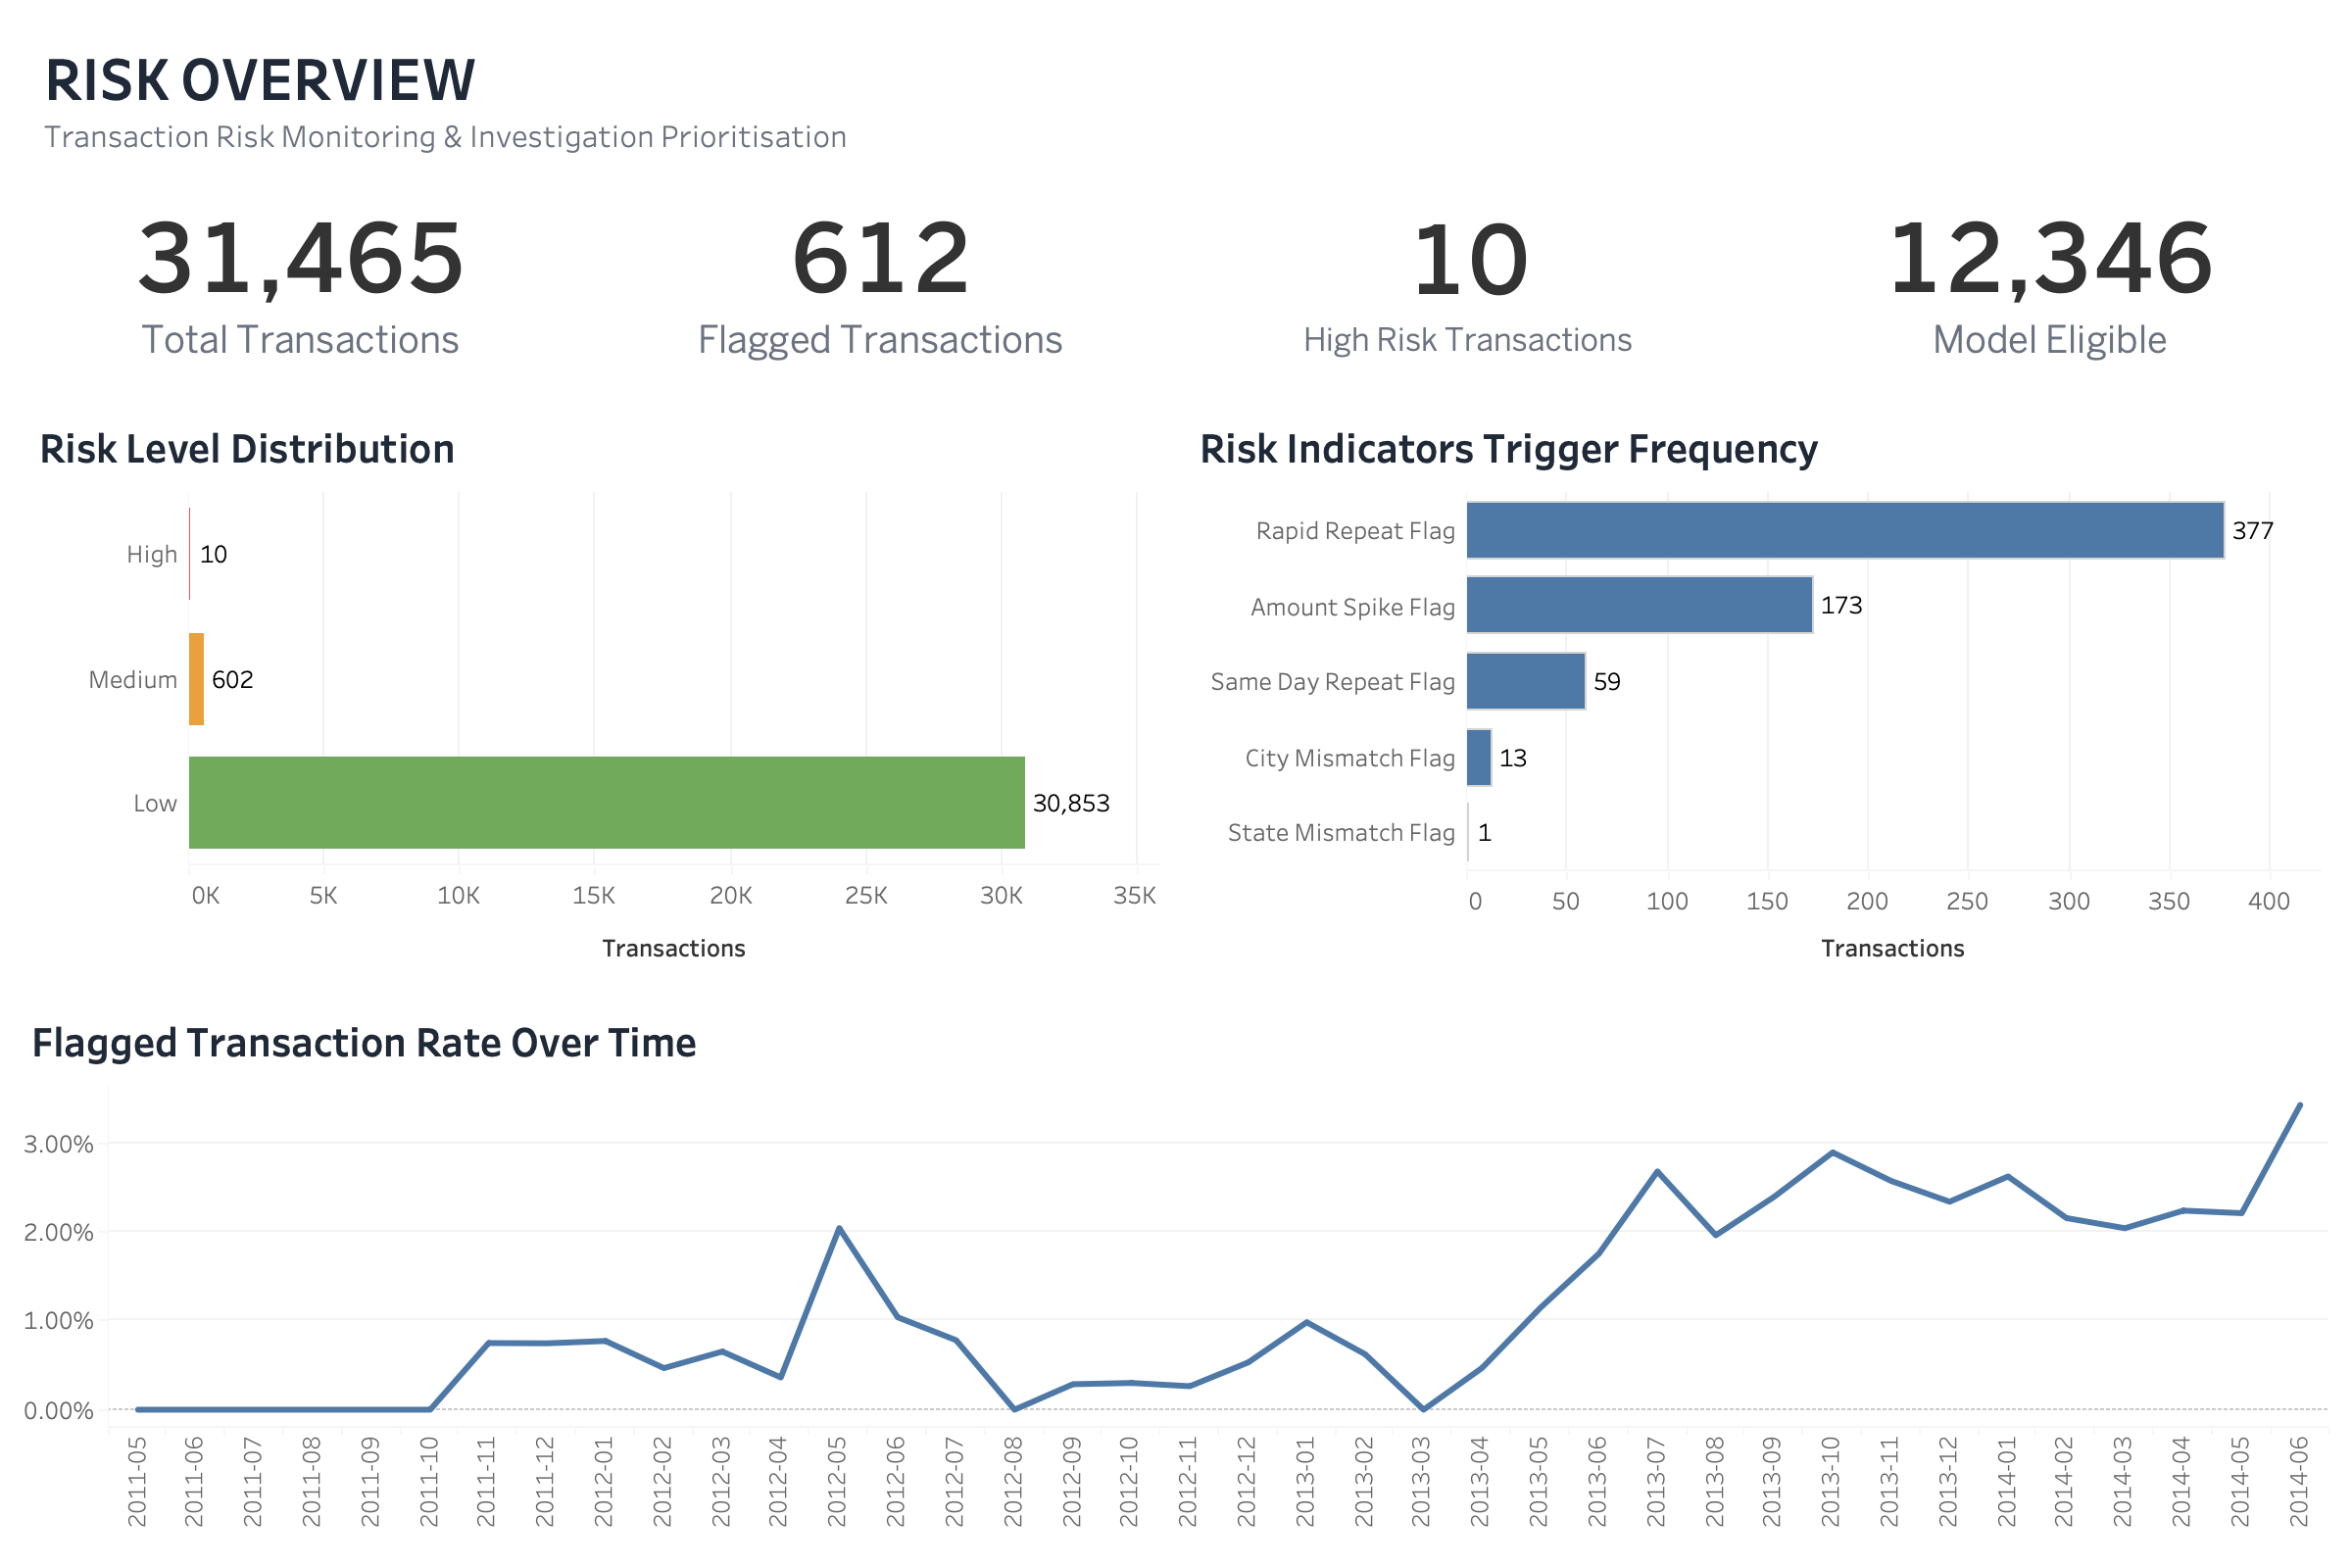

What the dashboard file says about the page in this screenshot:
{"tool":"tableau","page":{"name":"Risk Overview","canvas":[1200,800],"ordinal":3},"visuals":[{"type":"text","box":[8,8,1184,80]},{"type":"worksheet","title":"KPI - Total Transactions","mark":"Automatic","box":[8,88,292,112]},{"type":"worksheet","title":"KPI - Flagged Transactions","mark":"Automatic","box":[300,88,300,112]},{"type":"worksheet","title":"KPI - High Risk Transactions","mark":"Automatic","box":[600,88,300,112]},{"type":"worksheet","title":"KPI - Model Eligible","mark":"Automatic","box":[900,88,292,112]},{"type":"worksheet","title":"Chart - Risk Level Distribution","mark":"Bar","rows":["risk_level"],"cols":["SalesOrderID"],"box":[8,200,592,307]},{"type":"worksheet","title":"Chart - Risk Indicators Trigger Frequency","mark":"Bar","box":[600,200,592,307]},{"type":"worksheet","title":"Chart - Flagged Transaction Rate Over Time","mark":"Line","rows":["flagged_transaction_flag"],"cols":["order_year_month"],"box":[8,507,1184,285]}]}

Visuals, with their boxes in screenshot pixels (x1, y1, x2, y2), scaled from the page's 1200x800 canvas onto the 2352x1568 screenshot:
text: bbox=[16, 16, 2336, 172]
"KPI - Total Transactions" worksheet: bbox=[16, 172, 588, 392]
"KPI - Flagged Transactions" worksheet: bbox=[588, 172, 1176, 392]
"KPI - High Risk Transactions" worksheet: bbox=[1176, 172, 1764, 392]
"KPI - Model Eligible" worksheet: bbox=[1764, 172, 2336, 392]
"Chart - Risk Level Distribution" worksheet (Bar marks): bbox=[16, 392, 1176, 994]
"Chart - Risk Indicators Trigger Frequency" worksheet (Bar marks): bbox=[1176, 392, 2336, 994]
"Chart - Flagged Transaction Rate Over Time" worksheet (Line marks): bbox=[16, 994, 2336, 1552]
